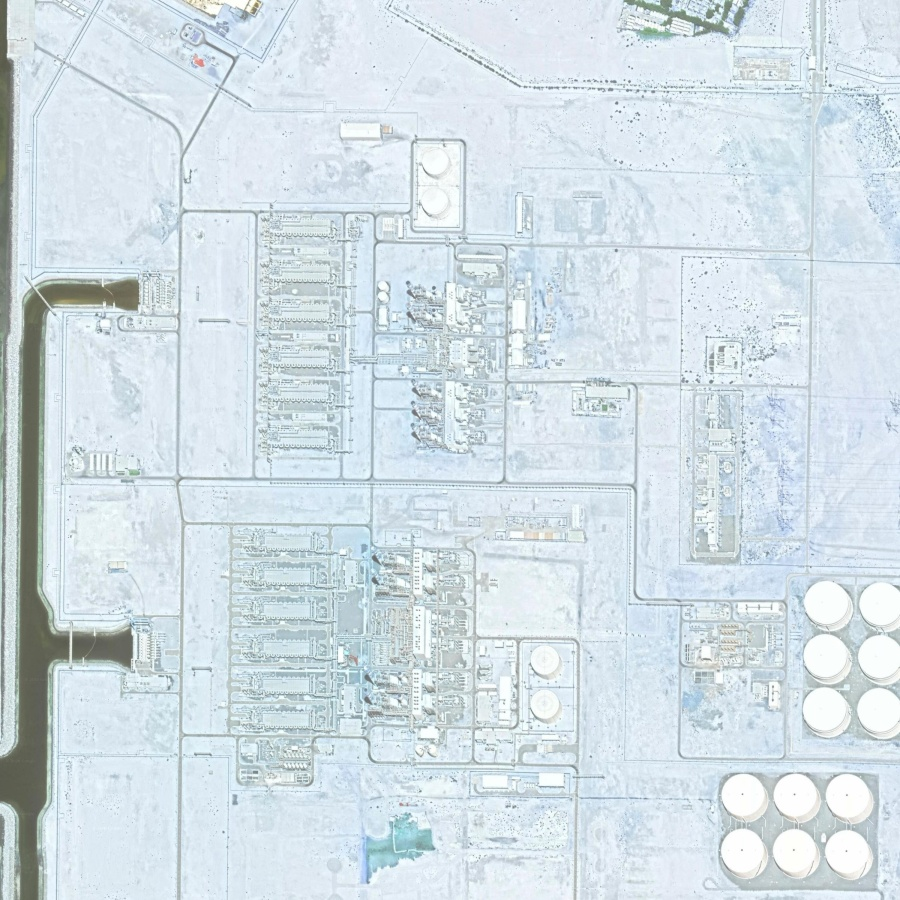PowerPlant: (254, 115, 585, 459), (214, 519, 576, 799)
